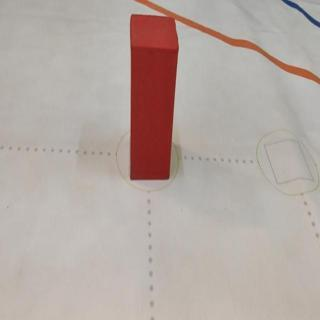redbox: (128, 13, 180, 180)
